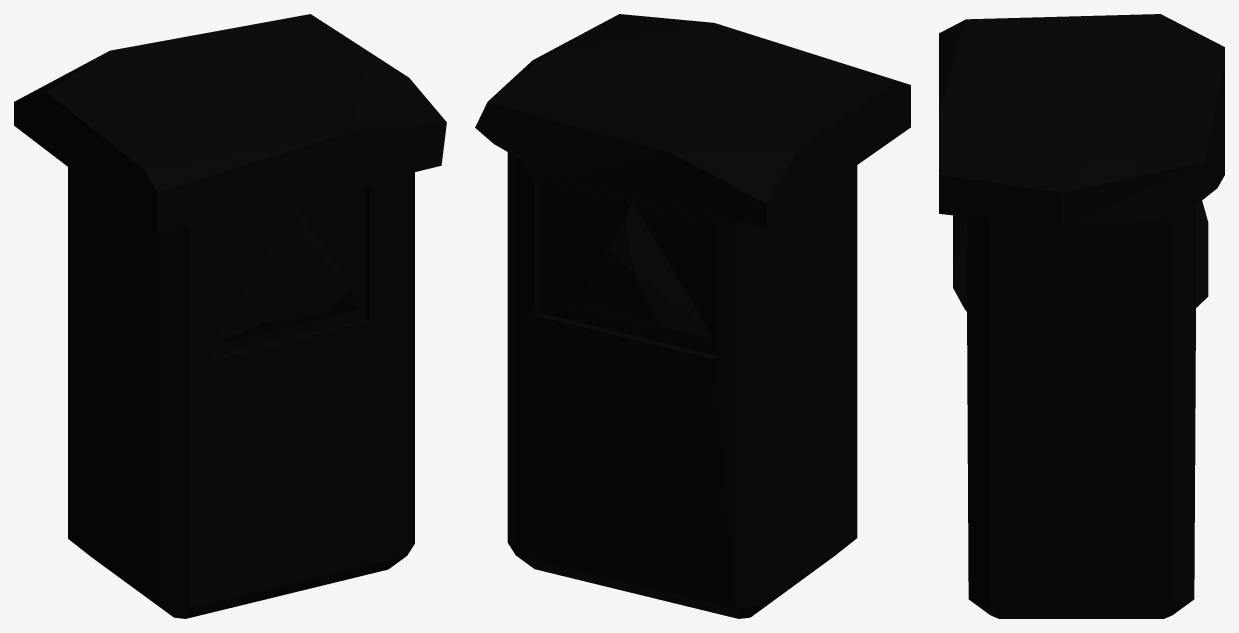
The model's file is dark_SM_Bld_Bridge_Pillar_01.gltf.
3 renders of one model, left to right at view 1: azimuth 30°, elevation 25°; view 2: azimuth 150°, elevation 25°; view 3: azimuth 270°, elevation 25°, orthographic.
Parts seen in each view (by area): view 1: SM_Bld_Bridge_Pillar_01; view 2: SM_Bld_Bridge_Pillar_01; view 3: SM_Bld_Bridge_Pillar_01.
Boxes of the visible parts, x1,y1,x2,y2 form: SM_Bld_Bridge_Pillar_01: [14, 14, 446, 618]; SM_Bld_Bridge_Pillar_01: [475, 14, 910, 618]; SM_Bld_Bridge_Pillar_01: [939, 14, 1224, 618].
Size of the model in its own units: 1.4 by 2.03 by 1.1.
Materials: 1 (1 with a texture image).
